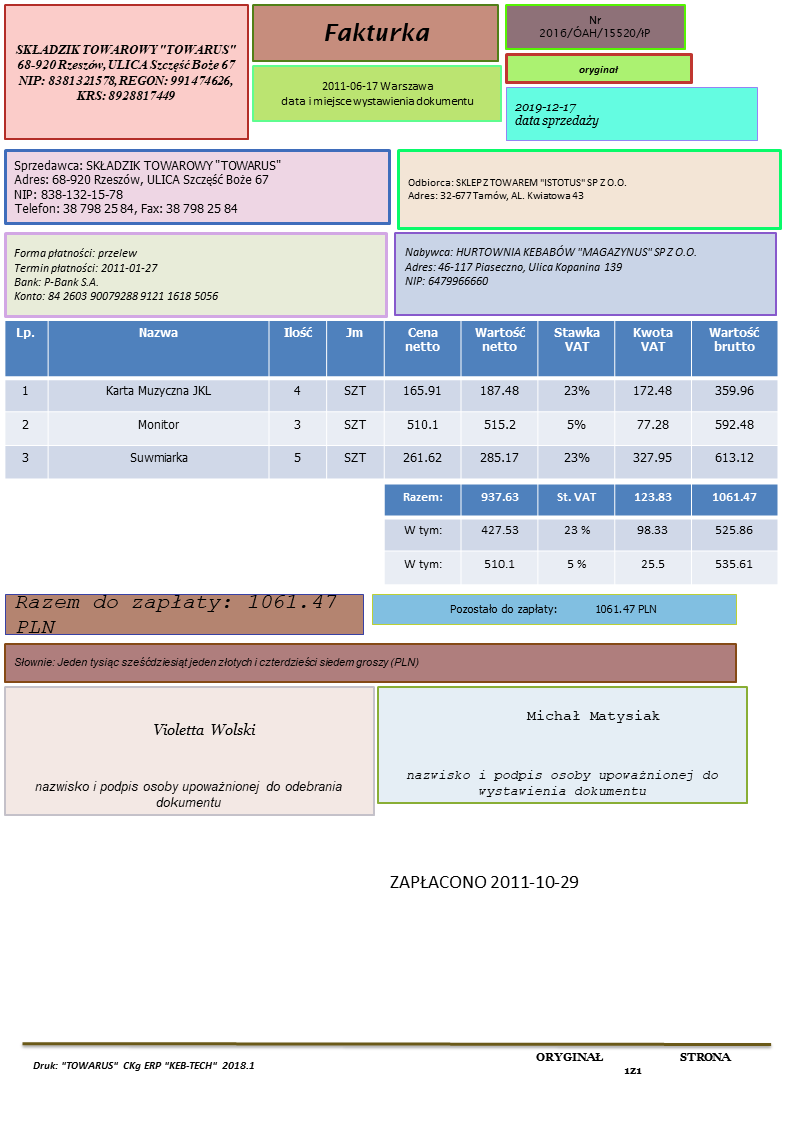Table: (3, 319, 779, 480), (383, 482, 778, 588)
TextBox: (10, 156, 285, 218), (12, 39, 240, 105), (12, 592, 339, 638), (401, 243, 701, 288), (11, 244, 221, 305), (403, 767, 720, 799), (31, 779, 345, 811), (11, 651, 420, 671), (406, 174, 631, 203), (278, 79, 476, 110), (533, 1049, 734, 1078), (386, 870, 581, 893), (536, 10, 655, 43), (28, 1057, 256, 1074), (446, 600, 659, 617), (321, 18, 430, 47), (524, 707, 661, 727), (150, 718, 259, 741), (575, 63, 622, 78)
